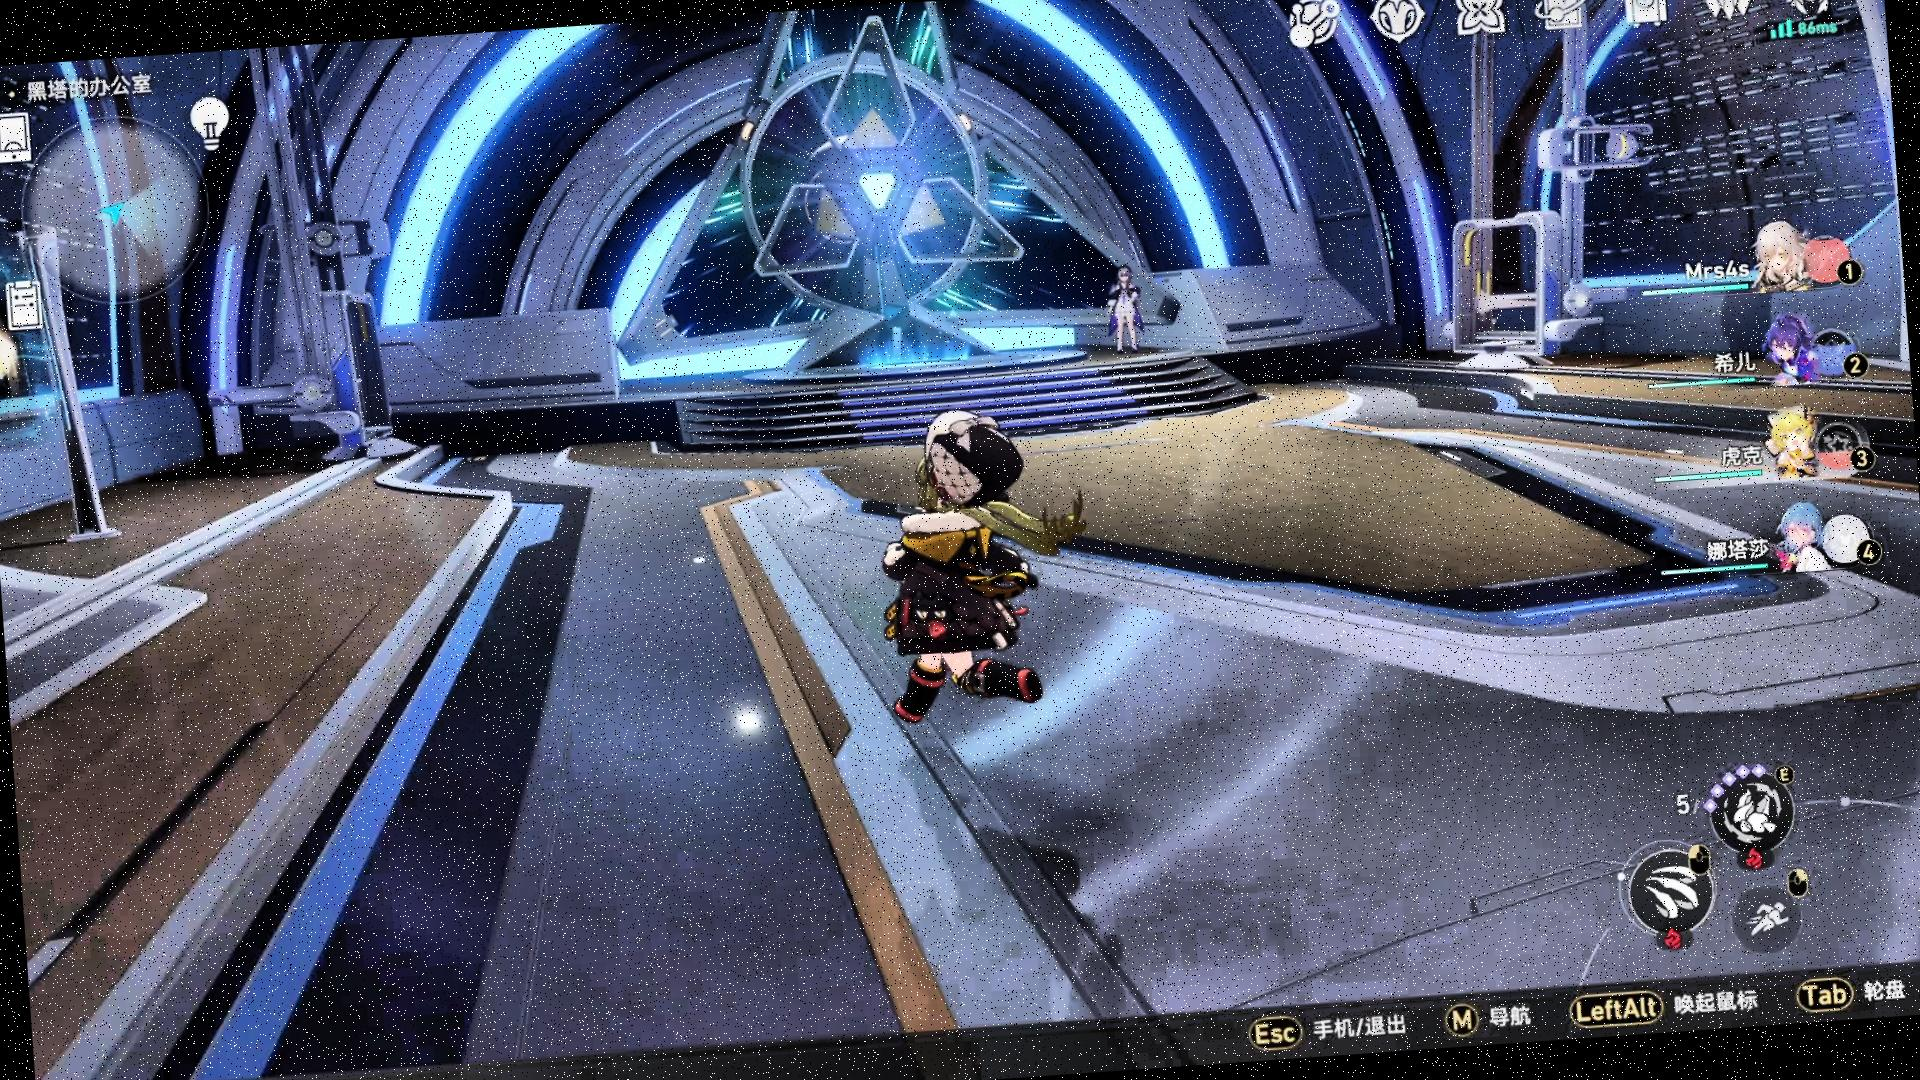Self: (865, 398, 1105, 727)
TeamMate: (1101, 262, 1151, 359)
